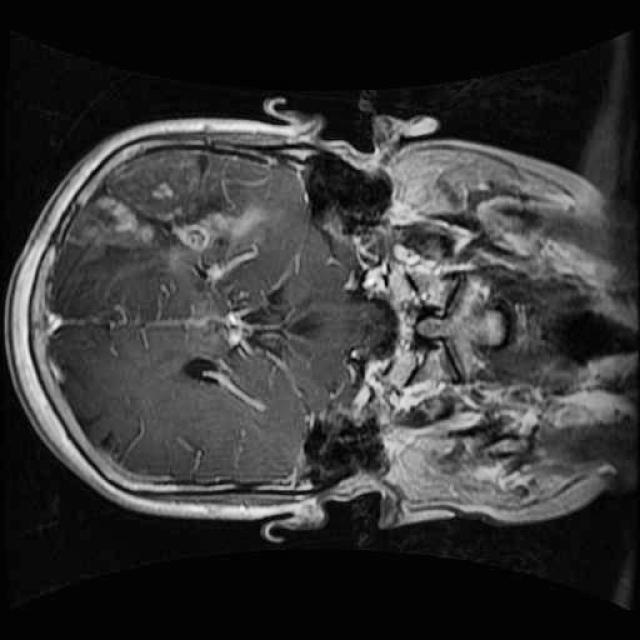Non-Tumor: (56, 138, 296, 298)
